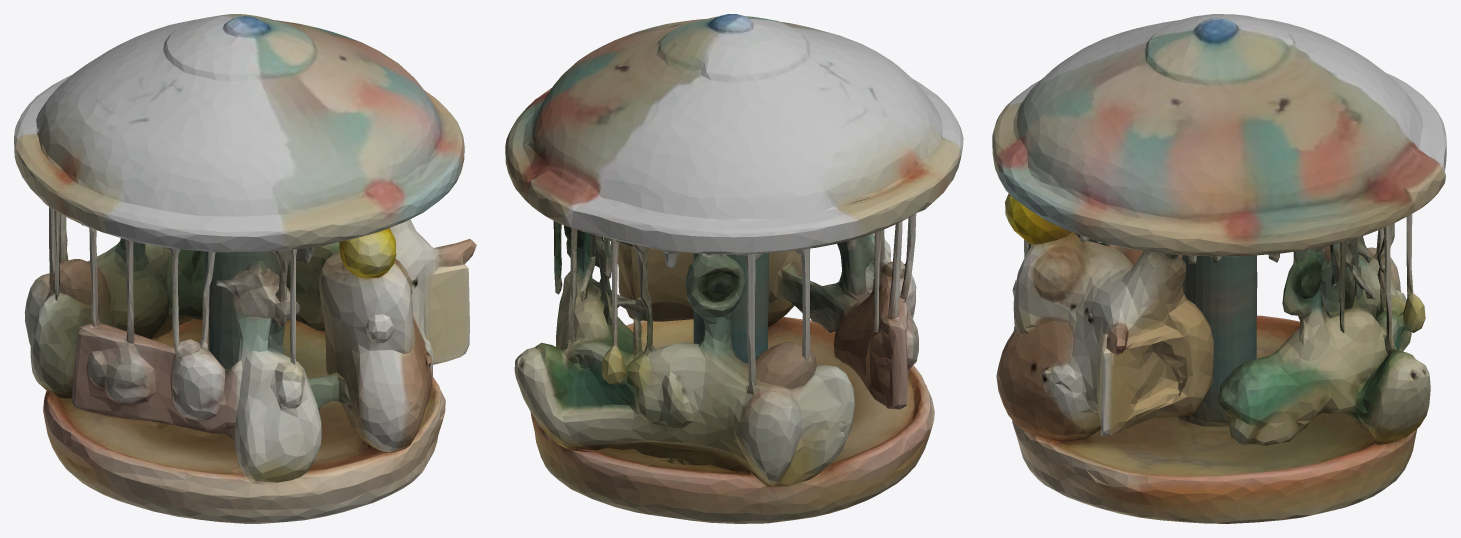
Rendered from ast_45226bd63340.glb.
The picture shows the model from 3 angles, left to right: view 1: azimuth 30°, elevation 25°; view 2: azimuth 150°, elevation 25°; view 3: azimuth 270°, elevation 25°; orthographic projection.
Parts seen in each view (by area): view 1: geometry_0; view 2: geometry_0; view 3: geometry_0.
Boxes of the visible parts, x1,y1,x2,y2 form: geometry_0: [14, 14, 476, 523]; geometry_0: [505, 14, 963, 523]; geometry_0: [992, 14, 1446, 523].
Bounding box in the file's own units: 0.5334 × 0.556 × 0.5346.
Materials: 1 (1 with a texture image).
